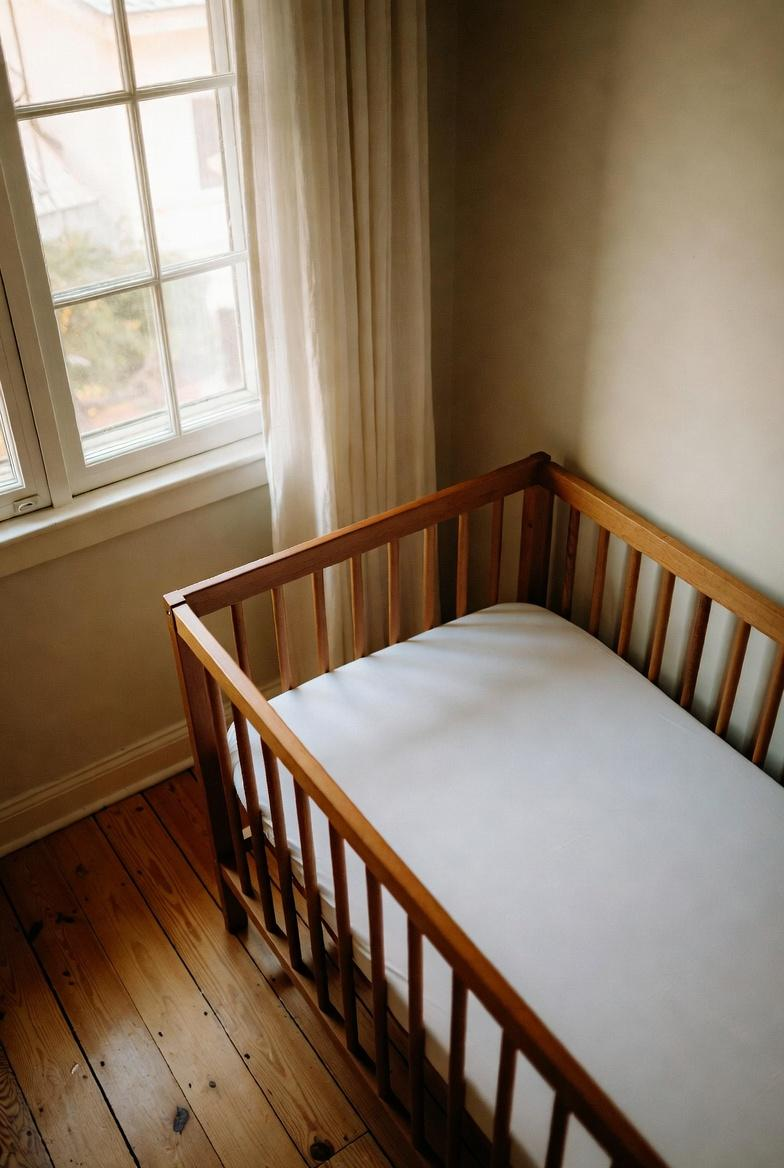crib: (160, 450, 784, 1168)
